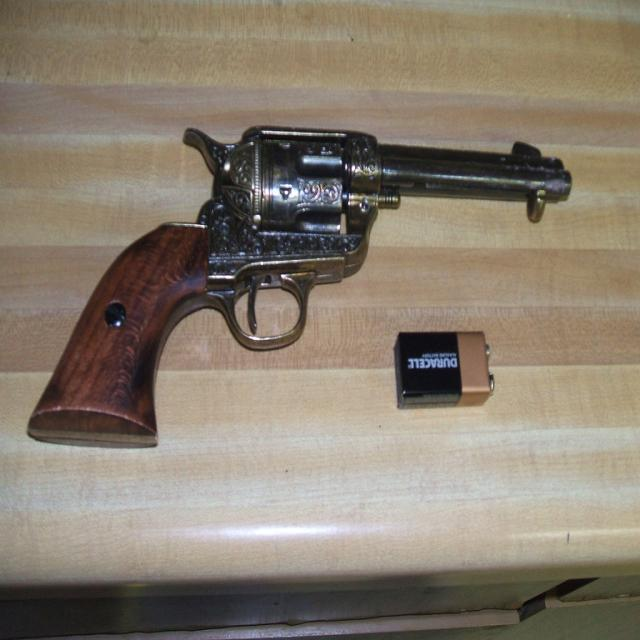Gun: (28, 126, 571, 448)
